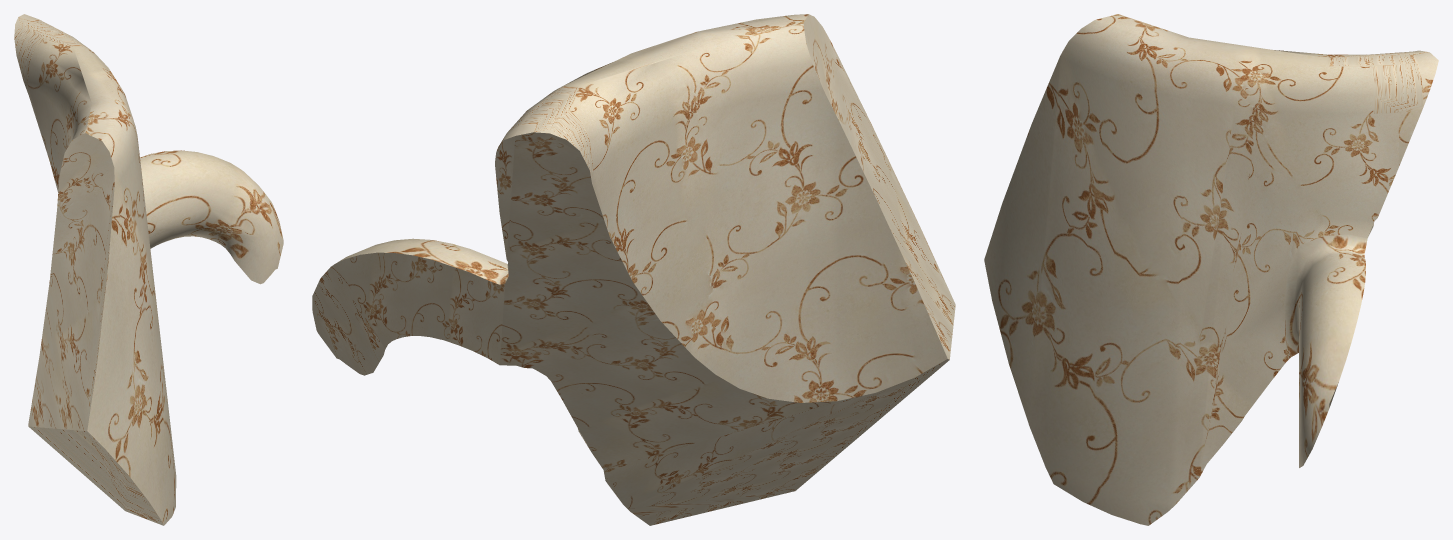
The picture shows the model from 3 angles, left to right: view 1: azimuth 30°, elevation 25°; view 2: azimuth 150°, elevation 25°; view 3: azimuth 270°, elevation 25°; orthographic projection. The views are drawn at different scales.
Parts seen in each view (by area): view 1: Cylinder_cell.004; view 2: Cylinder_cell.004; view 3: Cylinder_cell.004.
Boxes of the visible parts, x1=… form: Cylinder_cell.004: x1=14, y1=14, x2=283, y2=525; Cylinder_cell.004: x1=312, y1=14, x2=955, y2=525; Cylinder_cell.004: x1=984, y1=14, x2=1438, y2=525.
Size of the model in its own units: 1.17 by 1.21 by 1.09.
Materials: 1 (1 with a texture image).
